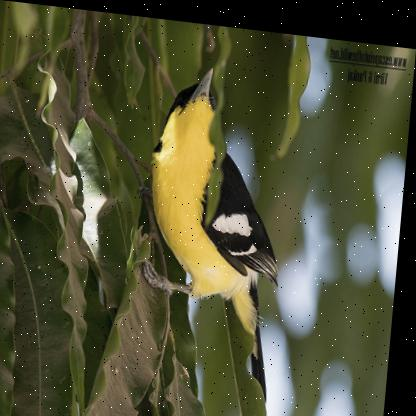Burung: (128, 56, 296, 395)
